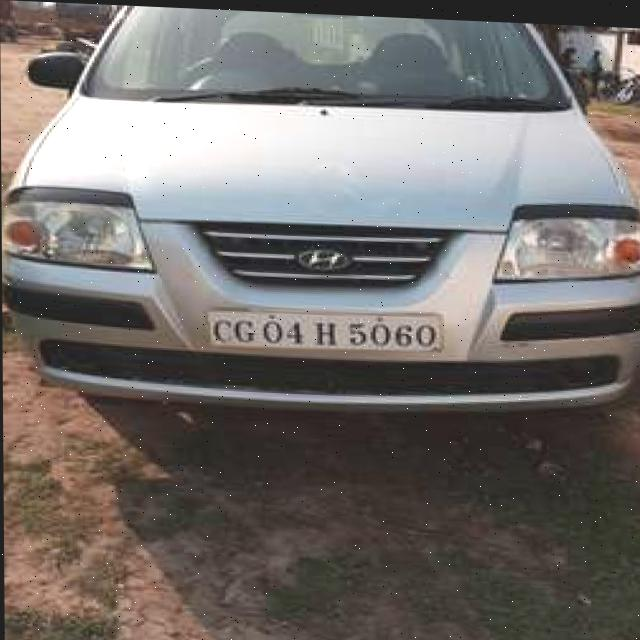plate: (208, 302, 445, 355)
